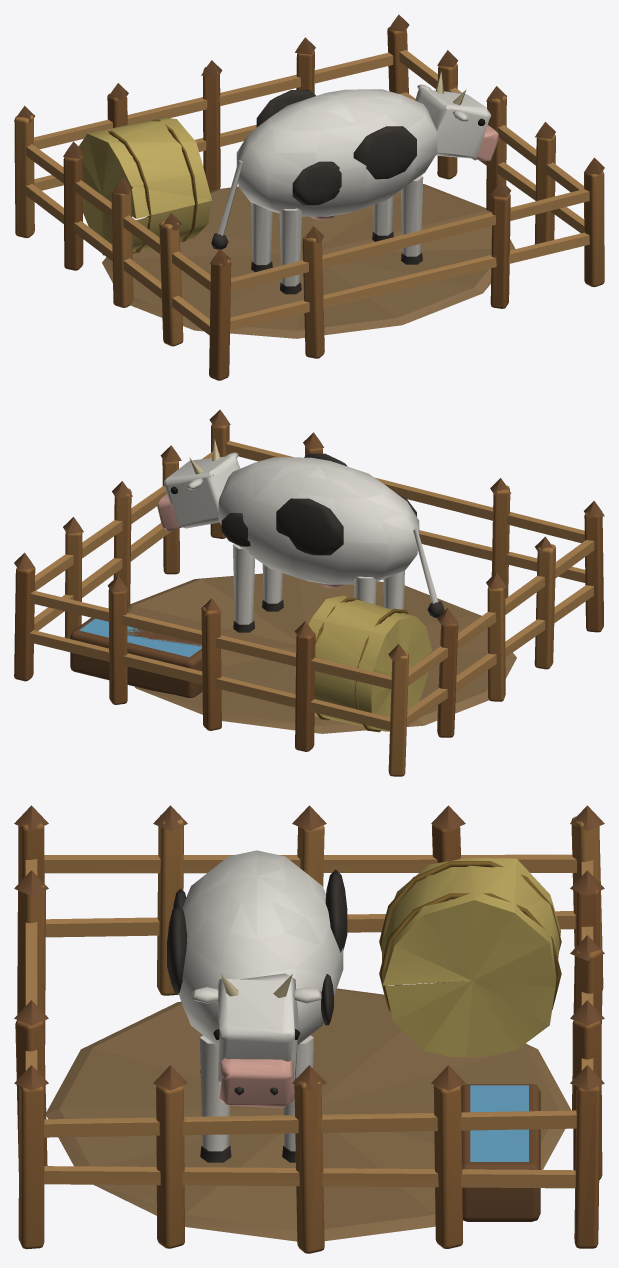
Rendered from pen.glb.
3 renders of one model, top to bottom at view 1: azimuth 30°, elevation 25°; view 2: azimuth 150°, elevation 25°; view 3: azimuth 270°, elevation 25°, orthographic. The views are drawn at different scales.
Parts seen in each view (by area): view 1: pen-kit; view 2: pen-kit; view 3: pen-kit.
Part boxes in pixels (<box>): pen-kit: <box>14,14,604,380</box>; pen-kit: <box>14,409,604,776</box>; pen-kit: <box>14,805,604,1253</box>.
Bounding box in the file's own units: 2.22 × 0.9485 × 2.02.
